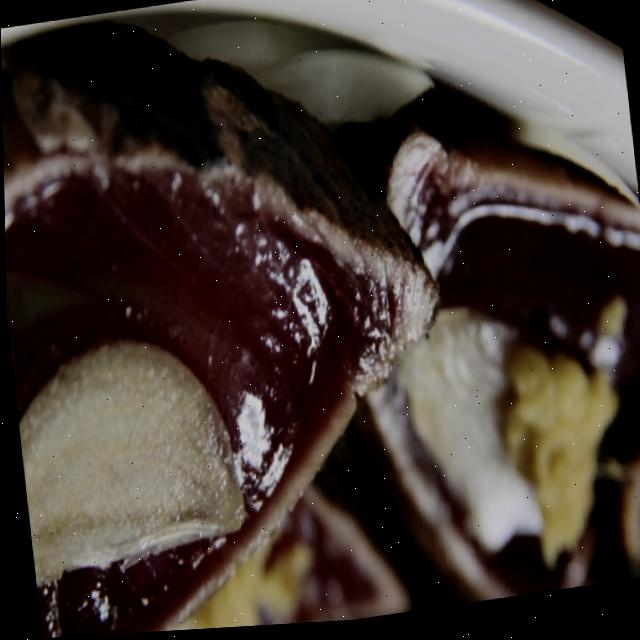熟制海鲜: (0, 0, 448, 640)
